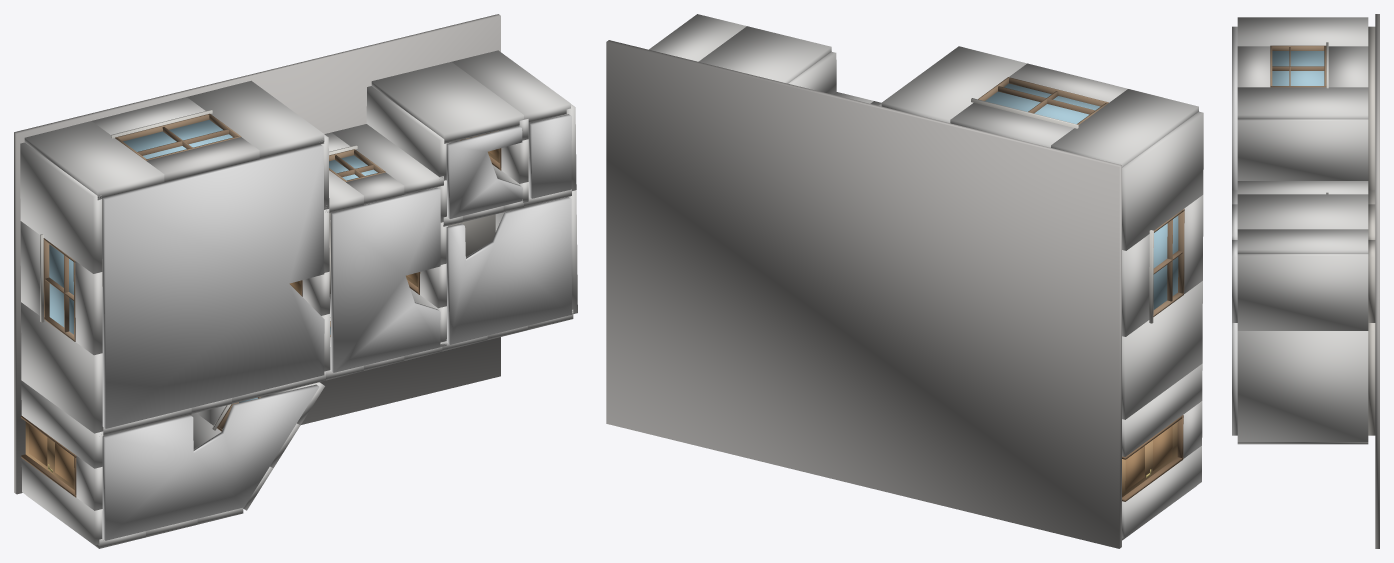
Rendered from blueprint2_scene.glb.
3 renders of one model, left to right at view 1: azimuth 30°, elevation 25°; view 2: azimuth 150°, elevation 25°; view 3: azimuth 270°, elevation 25°, orthographic. The views are drawn at different scales.
Visible parts, largest first — view 1: Ceilings, Walls, Plinth, Lintels, WindowGlasses, WindowFrames, DoorLeaves, WindowMullions, Floors, WindowSills, DoorFrames; view 2: Plinth, Walls, Lintels, WindowGlasses, DoorLeaves, WindowFrames, WindowMullions, WindowSills, DoorFrames; view 3: Walls, Floors, Plinth, Ceilings, WindowGlasses, Lintels, WindowFrames, WindowMullions.
Boxes of the visible parts, x1,y1,x2,y2 form: Ceilings: (102, 114, 571, 540); Walls: (20, 50, 577, 548); Plinth: (14, 14, 500, 494); Lintels: (75, 129, 528, 537); WindowGlasses: (49, 120, 377, 429); WindowFrames: (43, 113, 385, 431); DoorLeaves: (25, 130, 499, 489); WindowMullions: (45, 127, 373, 407); Floors: (102, 199, 495, 435); WindowSills: (40, 109, 357, 430); DoorFrames: (21, 139, 501, 497); Plinth: (606, 40, 1121, 548); Walls: (649, 14, 1203, 540); Lintels: (870, 63, 1203, 458); WindowGlasses: (985, 83, 1178, 309); DoorLeaves: (1122, 422, 1177, 497); WindowFrames: (978, 77, 1184, 316); WindowMullions: (998, 86, 1182, 301); WindowSills: (971, 98, 1153, 323); DoorFrames: (1122, 415, 1183, 501); Walls: (1237, 17, 1368, 444); Floors: (1368, 26, 1375, 435); Plinth: (1375, 14, 1379, 548); Ceilings: (1232, 26, 1237, 435); WindowGlasses: (1272, 51, 1324, 85); Lintels: (1237, 46, 1270, 87); WindowFrames: (1270, 45, 1326, 87); WindowMullions: (1272, 47, 1324, 85).
Bounding box in the file's own units: 10.82 × 7.75 × 3.17.
